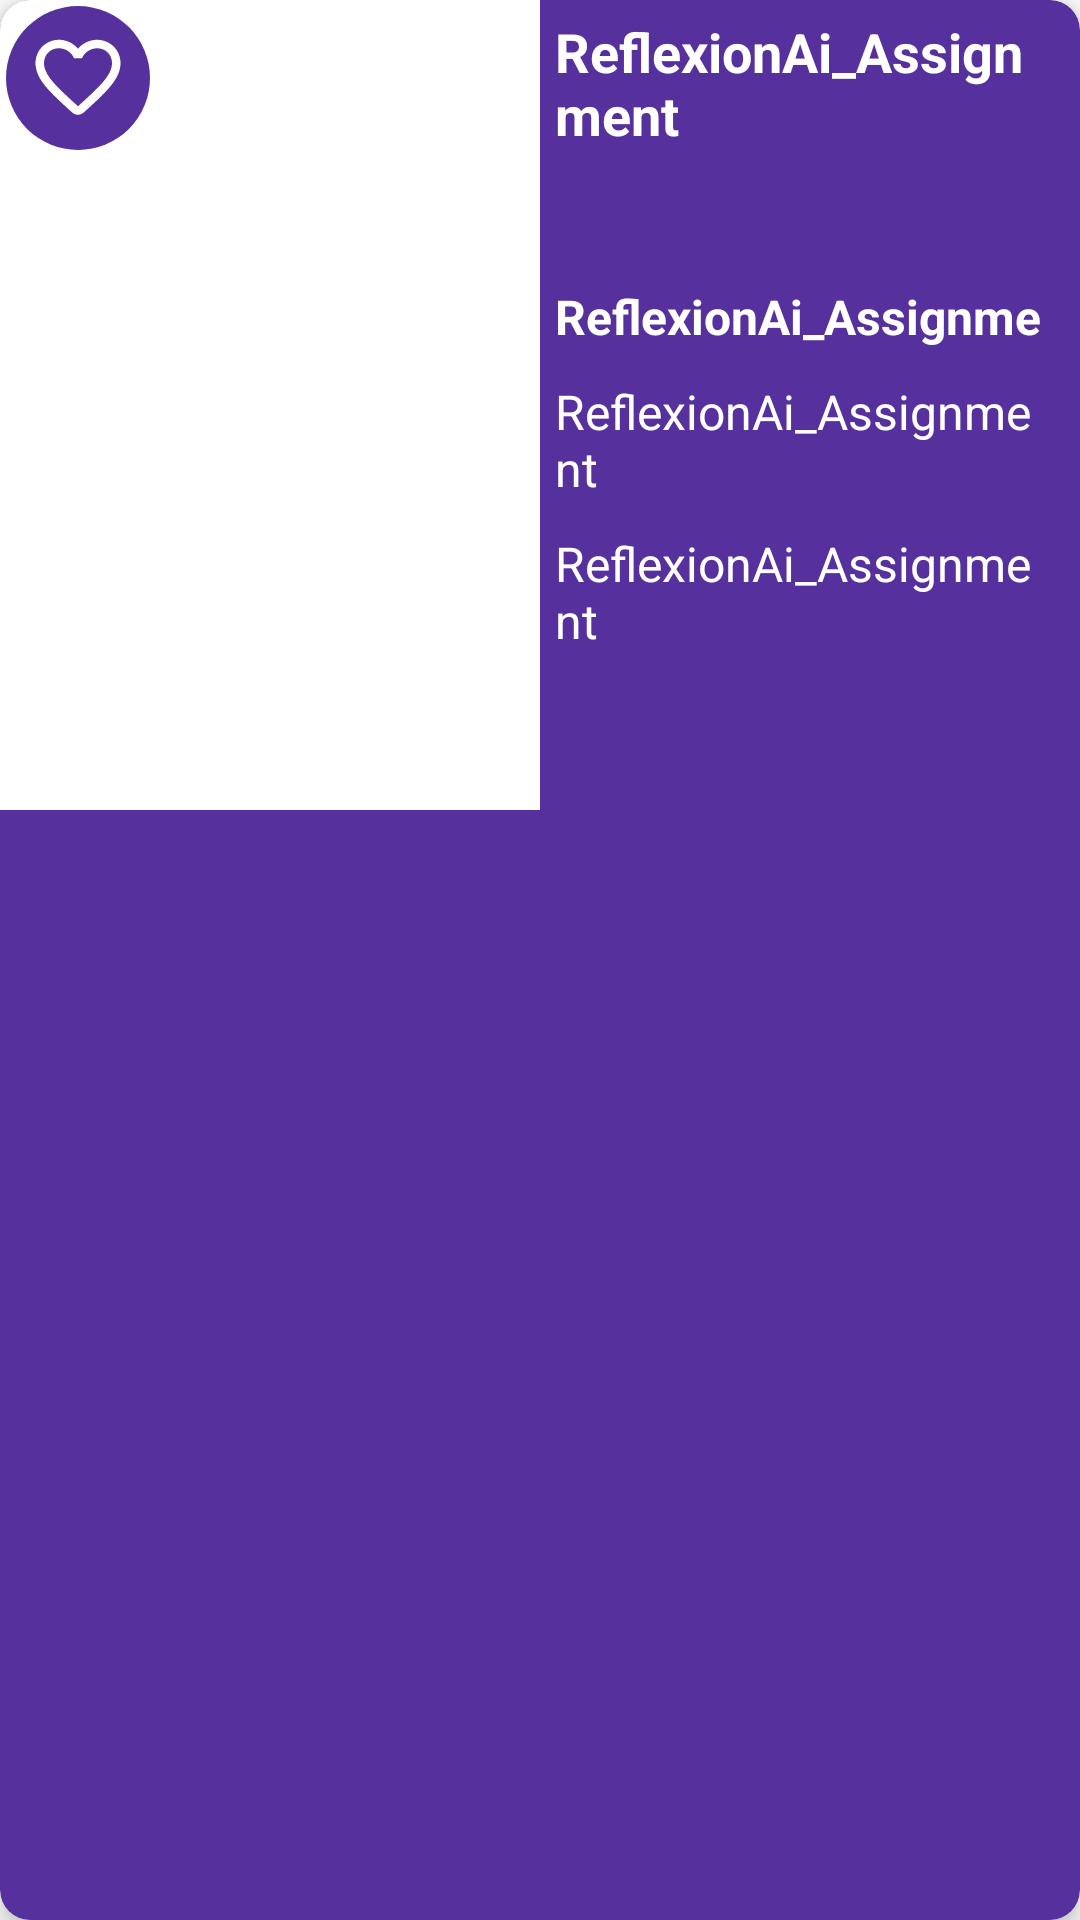

Where to tap for icons on this 1080 x 1920 app screen, as (x=x, y=y):
favorite border: (x=78, y=78)
